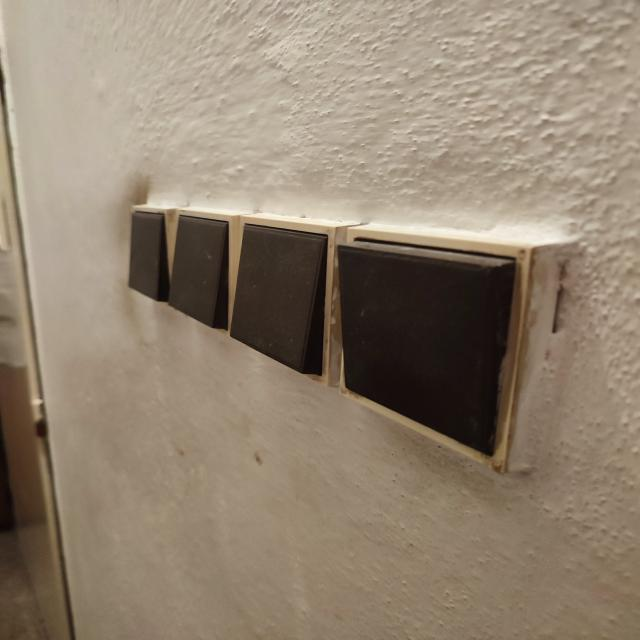house switch: (337, 222, 567, 474), (229, 213, 361, 387), (168, 207, 248, 334), (128, 204, 176, 301)
